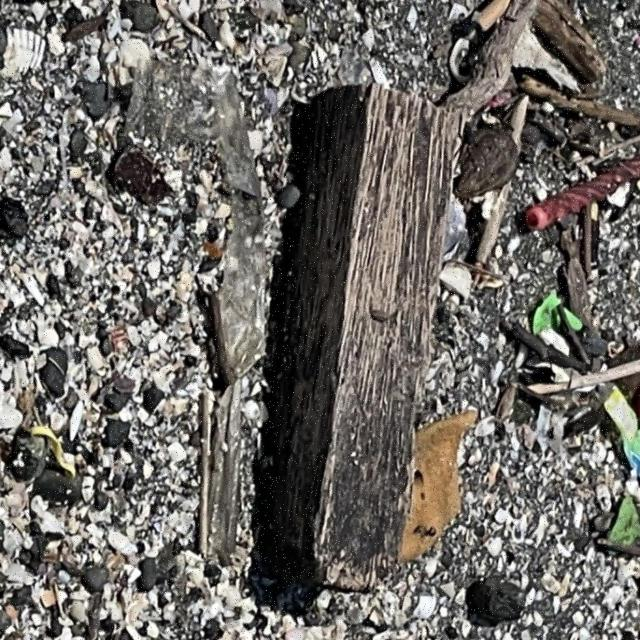wood_waste: (239, 86, 465, 593)
